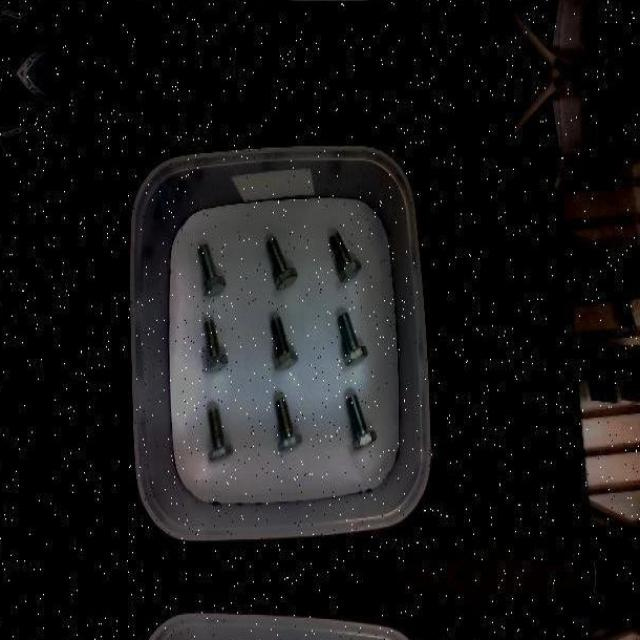screw: (346, 394, 377, 451), (266, 238, 298, 290), (330, 232, 362, 281), (197, 242, 226, 296), (339, 311, 368, 365), (271, 317, 299, 370), (200, 320, 228, 373), (205, 408, 233, 461), (275, 398, 302, 450)
